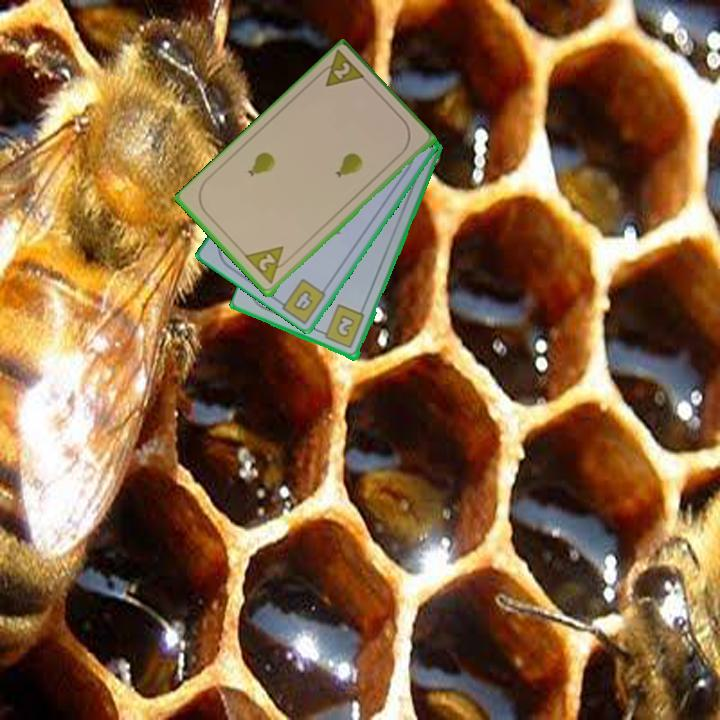2b: (316, 302, 368, 351)
2p: (312, 48, 369, 91), (242, 243, 294, 287)
4b: (289, 286, 316, 315)
